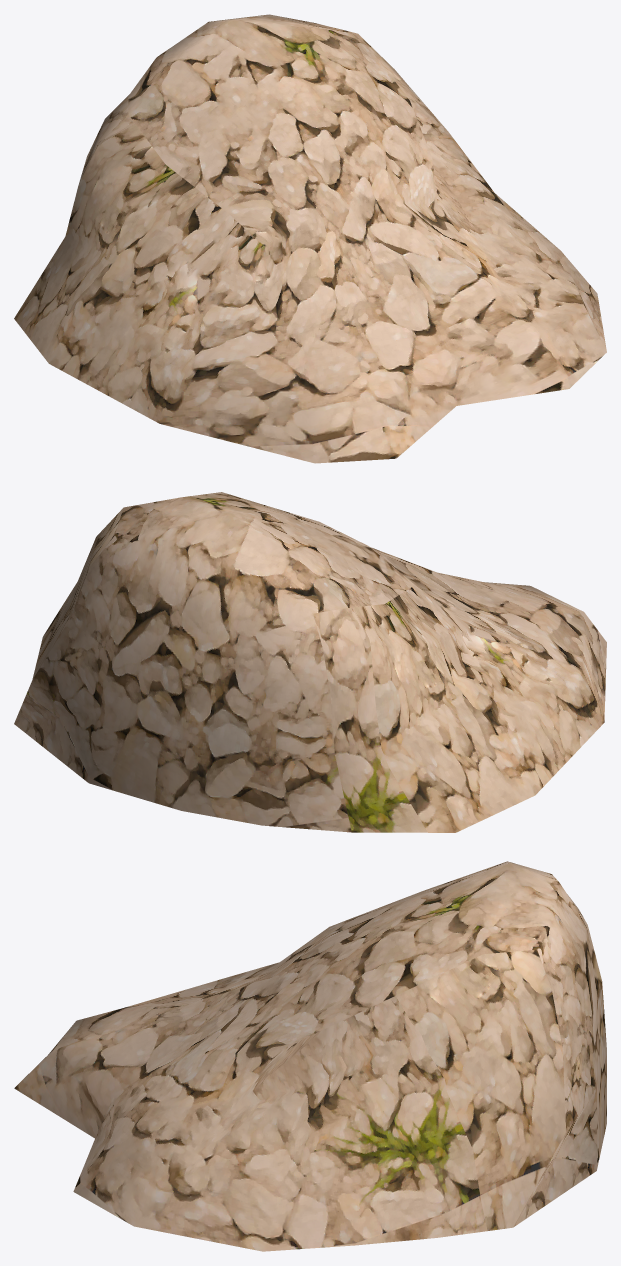
Rendered from RubblePile.fbx.
3 views of the same model, one above another, from view 1: azimuth 30°, elevation 25°; view 2: azimuth 150°, elevation 25°; view 3: azimuth 270°, elevation 25° (orthographic). The views are drawn at different scales.
Parts seen in each view (by area): view 1: polySurface296; view 2: polySurface296; view 3: polySurface296.
Boxes of the visible parts, box(x1,y1,x2,y2) form: polySurface296: box(14, 14, 606, 463); polySurface296: box(14, 492, 606, 832); polySurface296: box(14, 861, 606, 1251).
Size of the model in its own units: 862 by 423 by 868.
